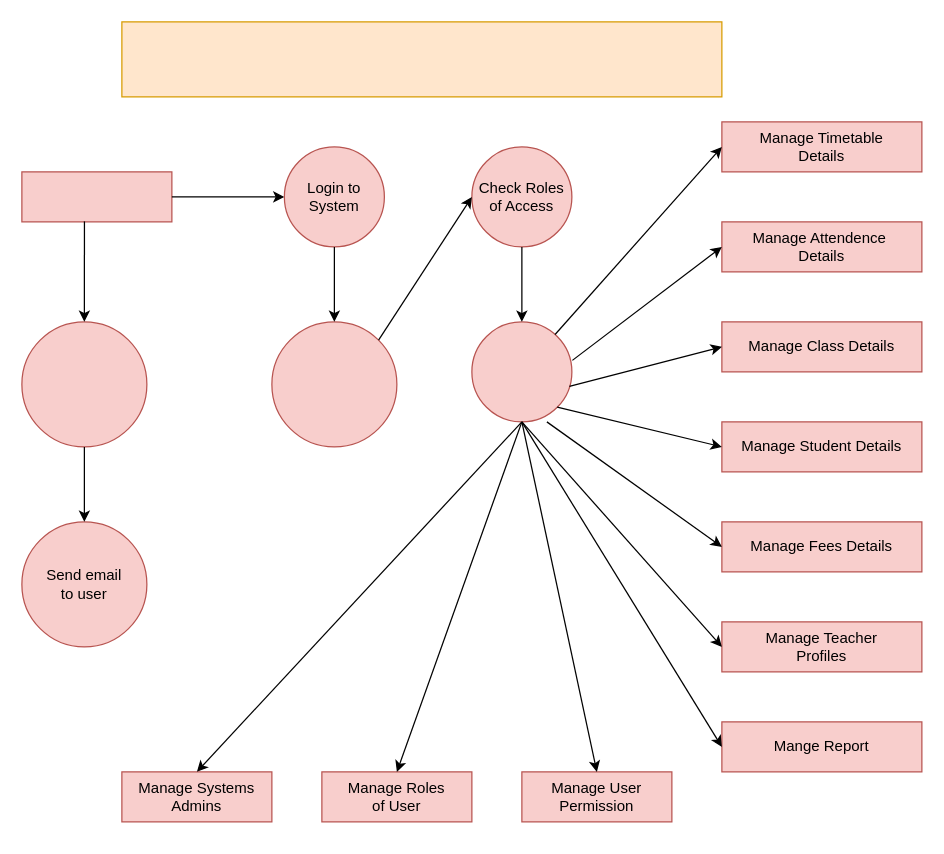
Some shapes in this 944 by 854 pixel diagram are drawn without their labels. Here are the shapes that lost their labels. From the top down, the centre of each, then its label:
At point (421, 59): "Student Information System".
At point (96, 196): "Admin".
At point (84, 384): "Forgot Password".
At point (334, 384): "Check Credentials".
At point (521, 371): "Manage Modules".
